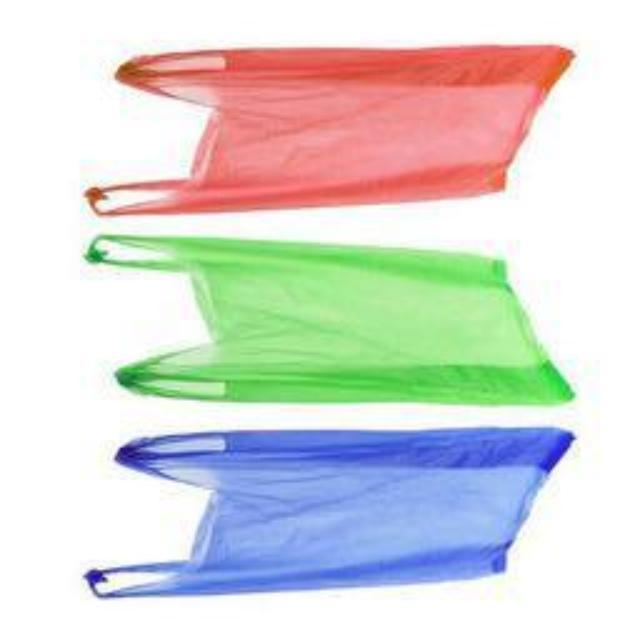Bolsa-de-plastico: (81, 47, 588, 218), (88, 236, 586, 410), (88, 434, 571, 592)
